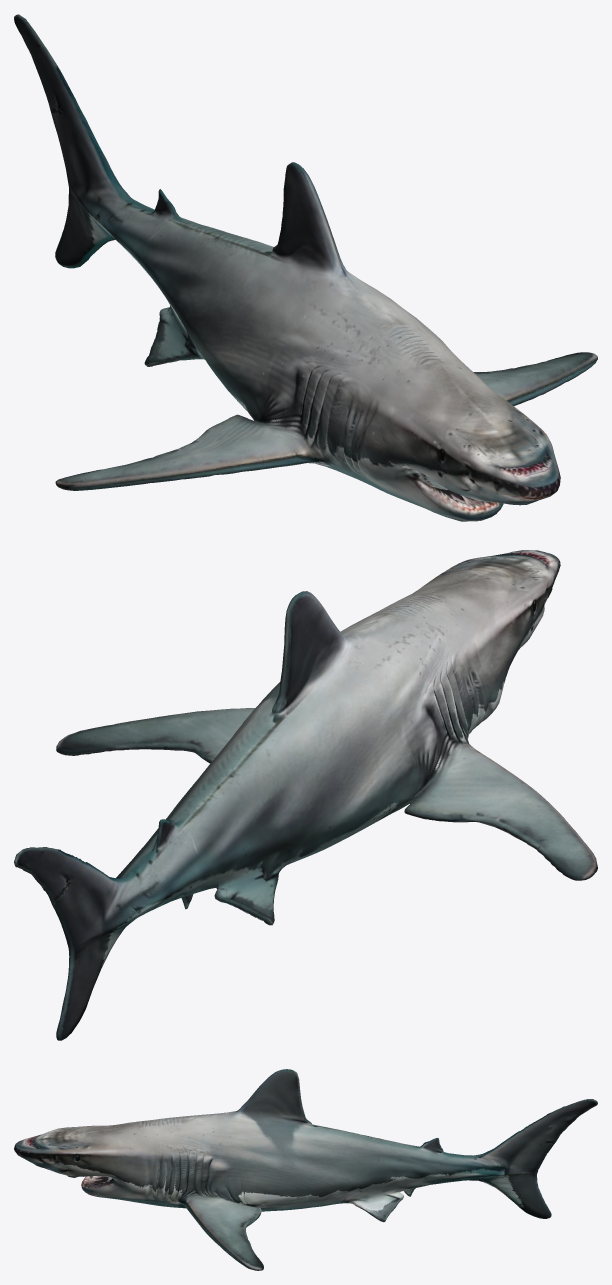
Rendered from hunter-shark.glb.
3 renders of one model, top to bottom at view 1: azimuth 30°, elevation 25°; view 2: azimuth 150°, elevation 25°; view 3: azimuth 270°, elevation 25°, orthographic. The views are drawn at different scales.
Bounding box in the file's own units: 1.16 × 0.5665 × 2.
Materials: 1 (1 with a texture image).
